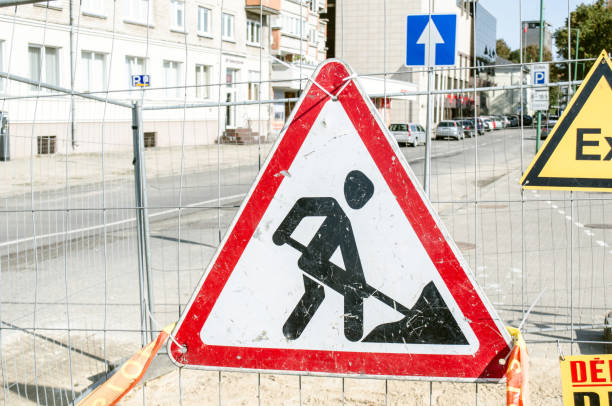yol_calismasi_levha: (165, 63, 517, 381)
